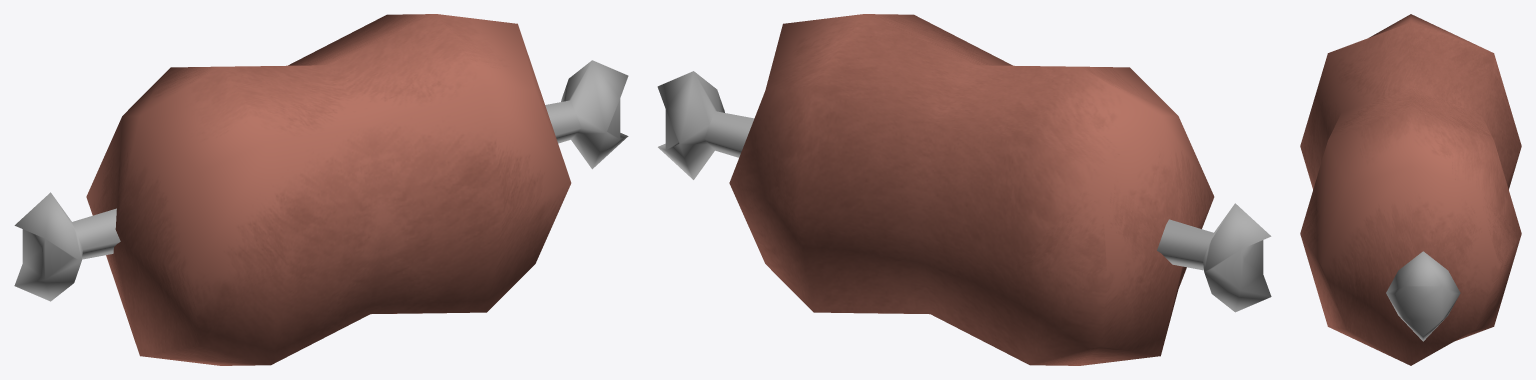
File: Niku.fbx
3 renders of one model, left to right at view 1: azimuth 30°, elevation 25°; view 2: azimuth 150°, elevation 25°; view 3: azimuth 270°, elevation 25°, orthographic. The views are drawn at different scales.
Visible parts, largest first — view 1: Niku; view 2: Niku; view 3: Niku.
Boxes of the visible parts, x1,y1,x2,y2 form: Niku: (14, 14, 628, 365); Niku: (657, 14, 1271, 365); Niku: (1300, 14, 1521, 365).
Size of the model in its own units: 13.27 by 6.18 by 5.
